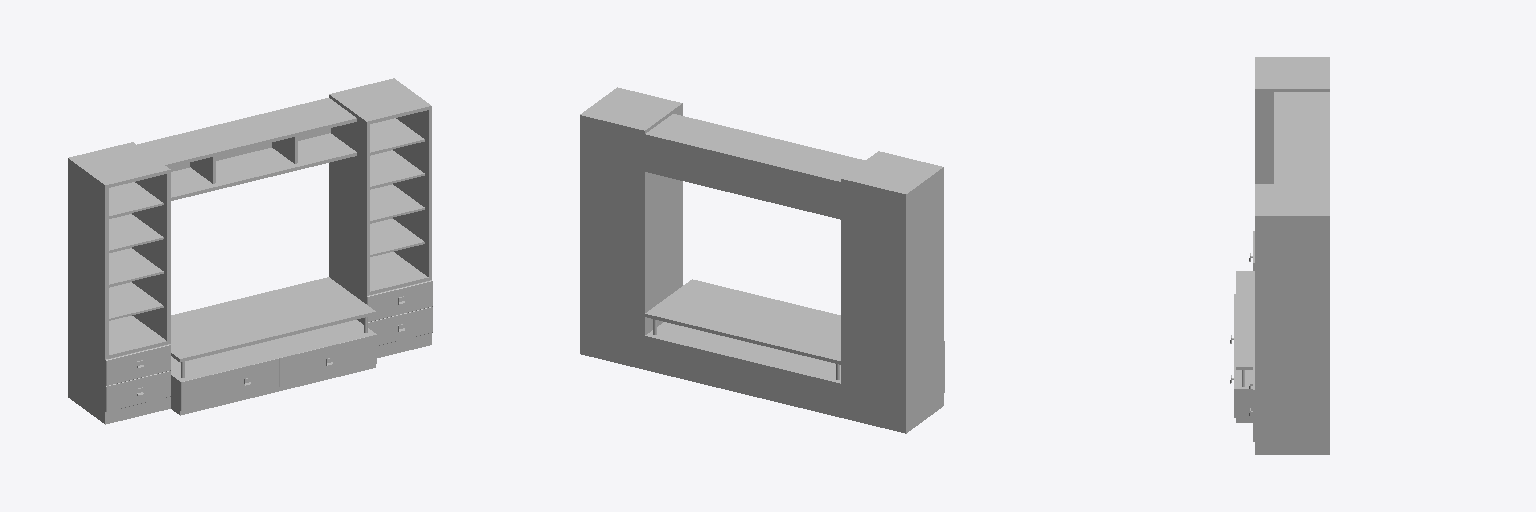
The model's file is tv_case.obj.
3 views of the same model, side by side, from view 1: azimuth 30°, elevation 25°; view 2: azimuth 150°, elevation 25°; view 3: azimuth 270°, elevation 25° (orthographic).
Visible parts, largest first — view 1: Bookcase_01_Black, Shelf_02_Black, Shelfs_Red, Table_02_Black, Bookcase_01_Red, Table_01_Red, Table_01_Black; view 2: Bookcase_01_Black, Shelf_02_Black, Table_01_Black, Table_02_Black; view 3: Bookcase_01_Black, Shelf_02_Black, Table_02_Black, Table_01_Black.
Boxes of the visible parts, box(x1,y1,x2,y2) form: Bookcase_01_Black: box(68, 78, 431, 424); Shelf_02_Black: box(137, 98, 356, 200); Shelfs_Red: box(109, 118, 424, 320); Table_02_Black: box(171, 277, 375, 362); Bookcase_01_Red: box(105, 280, 432, 411); Table_01_Red: box(180, 334, 376, 410); Table_01_Black: box(171, 320, 375, 415); Bookcase_01_Black: box(580, 87, 943, 433); Shelf_02_Black: box(645, 114, 865, 219); Table_01_Black: box(645, 322, 840, 417); Table_02_Black: box(645, 279, 840, 364); Bookcase_01_Black: box(1255, 57, 1329, 454); Shelf_02_Black: box(1274, 92, 1329, 183); Table_02_Black: box(1236, 271, 1254, 369); Table_01_Black: box(1236, 370, 1252, 422).
Bounding box in the file's own units: 118 × 82.68 × 31.41.